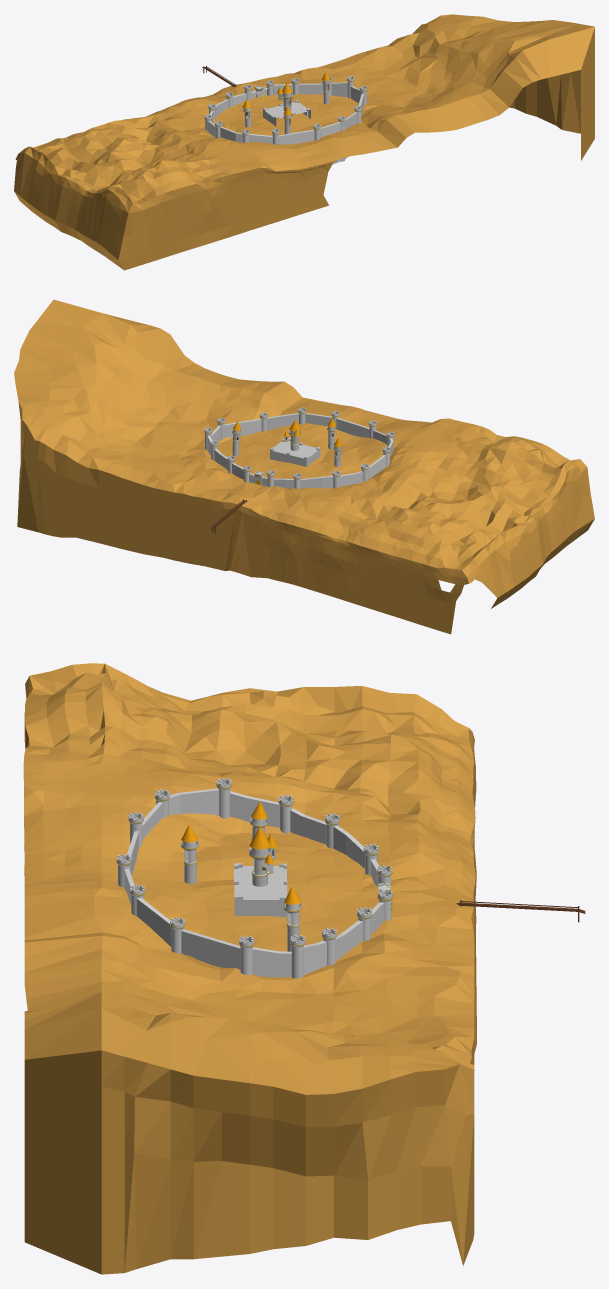
File: Ilha_castelo.gltf
The picture shows the model from 3 angles, top to bottom: view 1: azimuth 30°, elevation 25°; view 2: azimuth 150°, elevation 25°; view 3: azimuth 270°, elevation 25°; orthographic projection. The views are drawn at different scales.
Parts seen in each view (by area): view 1: Ilha Castelo, Castelo Jogo; view 2: Ilha Castelo, Castelo Jogo; view 3: Ilha Castelo, Castelo Jogo.
Boxes of the visible parts, box(x1,y1,x2,y2) form: Ilha Castelo: box(14, 14, 594, 270); Castelo Jogo: box(204, 72, 367, 164); Ilha Castelo: box(14, 299, 594, 634); Castelo Jogo: box(204, 407, 394, 488); Ilha Castelo: box(23, 663, 585, 1274); Castelo Jogo: box(116, 778, 393, 978).
Size of the model in its own units: 114 by 29.3 by 55.1.
